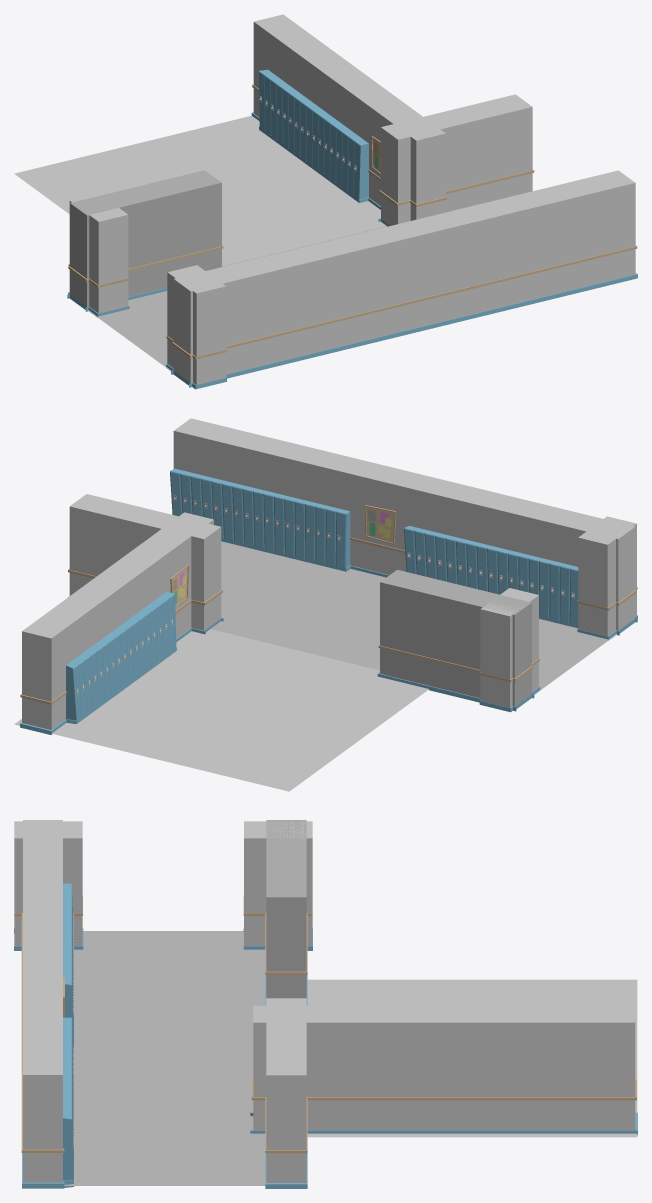
The model's file is Tile5.fbx.
The picture shows the model from 3 angles, top to bottom: view 1: azimuth 30°, elevation 25°; view 2: azimuth 150°, elevation 25°; view 3: azimuth 270°, elevation 25°; orthographic projection. The views are drawn at different scales.
Visible parts, largest first — view 1: Plane.066; view 2: Plane.066; view 3: Plane.066.
Part boxes in pixels (x1,y1,x2,y2): Plane.066: (14,14,637,389); Plane.066: (14,418,637,791); Plane.066: (14,820,637,1188).
Bounding box in the file's own units: 3032 × 626 × 3103.
